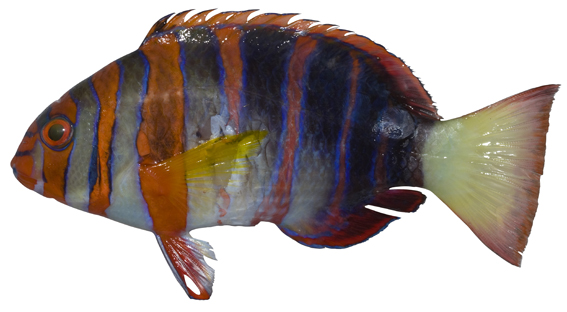fish: (11, 9, 561, 301)
